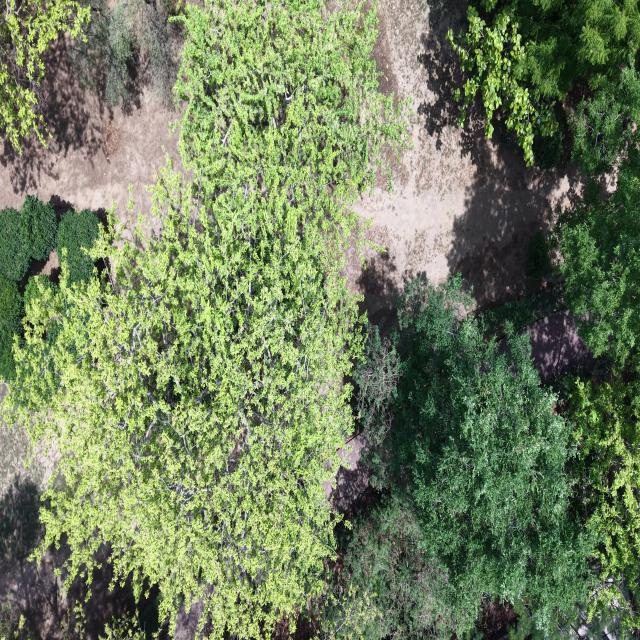DRY_AREA: (349, 0, 581, 331), (348, 0, 579, 331), (348, 0, 579, 328), (0, 39, 180, 218), (0, 40, 179, 219), (0, 41, 179, 219), (0, 426, 56, 517), (526, 310, 592, 381), (0, 422, 58, 499), (0, 423, 58, 497), (325, 434, 369, 512)
VEGETATION_TREE: (0, 0, 639, 639), (13, 171, 599, 637), (8, 0, 408, 638), (12, 176, 357, 637), (337, 150, 639, 637), (339, 155, 639, 637), (458, 0, 639, 637), (326, 281, 639, 638), (510, 2, 639, 636), (376, 278, 591, 634), (390, 280, 588, 632), (175, 0, 410, 241), (554, 147, 639, 636), (557, 149, 639, 635), (449, 0, 639, 174), (0, 0, 179, 152), (517, 0, 639, 174), (321, 490, 455, 639), (563, 376, 639, 637), (0, 196, 98, 382), (558, 150, 639, 366), (448, 5, 557, 165), (0, 0, 89, 150), (517, 0, 639, 99), (70, 0, 179, 106), (0, 197, 51, 382), (481, 230, 566, 338), (353, 324, 400, 490), (569, 67, 639, 175), (69, 0, 137, 105), (0, 196, 57, 281), (505, 599, 619, 639), (139, 0, 181, 106), (482, 286, 565, 338), (0, 476, 41, 575), (312, 581, 380, 639), (56, 210, 99, 282), (0, 274, 23, 382), (20, 195, 57, 260), (0, 207, 31, 281), (532, 115, 564, 169), (0, 600, 37, 639), (132, 593, 161, 639), (525, 230, 551, 280), (100, 616, 148, 639), (24, 275, 58, 306), (24, 274, 58, 303)
